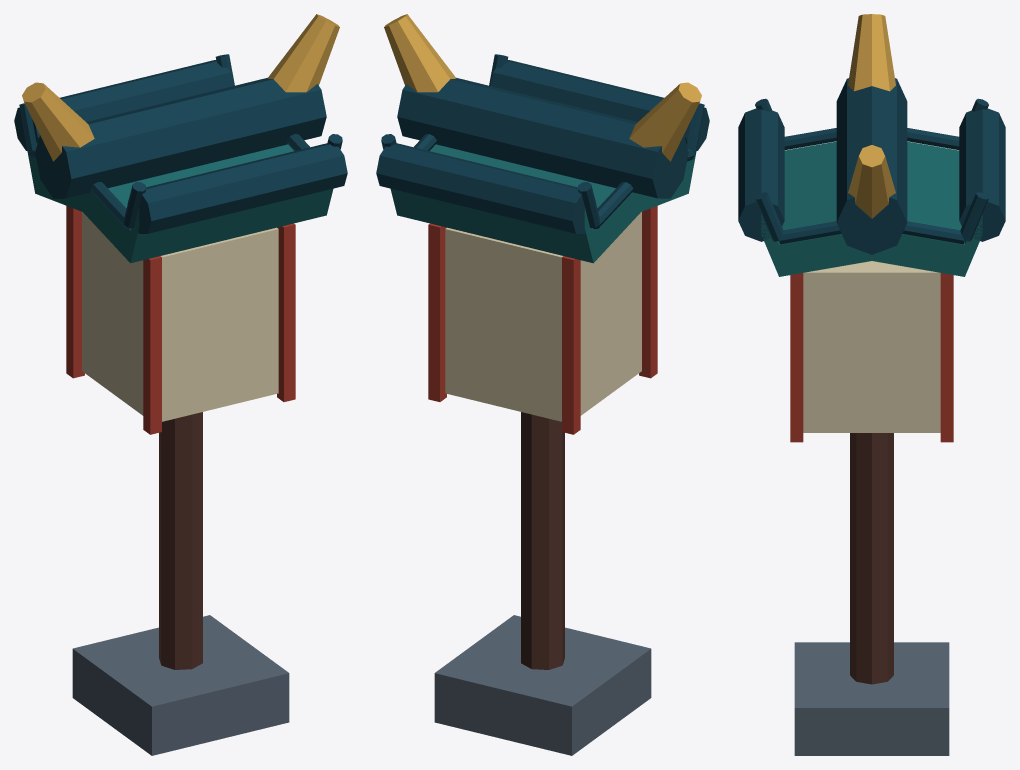
The model's file is lantern.glb.
3 views of the same model, side by side, from view 1: azimuth 30°, elevation 25°; view 2: azimuth 150°, elevation 25°; view 3: azimuth 270°, elevation 25° (orthographic). The views are drawn at different scales.
Visible parts, largest first — view 1: lantern; view 2: lantern; view 3: lantern.
Part boxes in pixels (bbox=[...]): lantern: bbox=[14, 14, 347, 755]; lantern: bbox=[376, 14, 709, 755]; lantern: bbox=[738, 14, 1005, 755].
Bounding box in the file's own units: 1.6 × 3.21 × 1.21.
